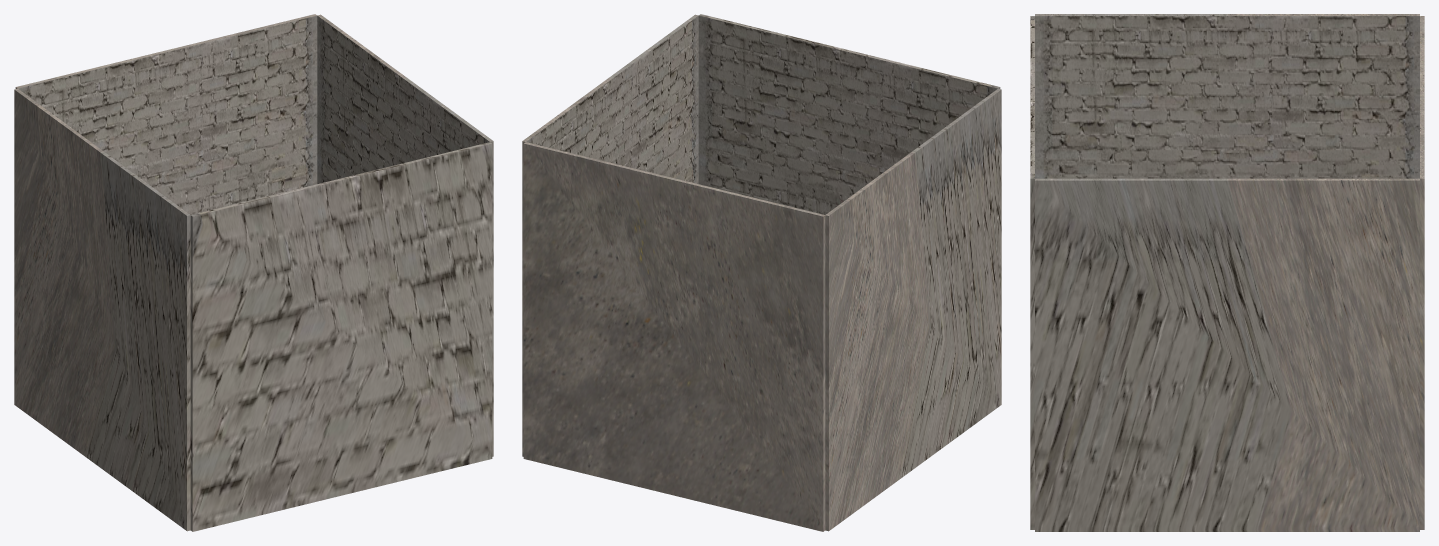
File: floor2.fbx
The picture shows the model from 3 angles, left to right: view 1: azimuth 30°, elevation 25°; view 2: azimuth 150°, elevation 25°; view 3: azimuth 270°, elevation 25°; orthographic projection. The views are drawn at different scales.
Visible parts, largest first — view 1: Cube; view 2: Cube; view 3: Cube.
Boxes of the visible parts, x1,y1,x2,y2 form: Cube: (14, 14, 493, 531); Cube: (522, 14, 1001, 531); Cube: (1030, 14, 1424, 531).
Size of the model in its own units: 8.19 by 8.05 by 8.19.
1 material, 1 textured.
